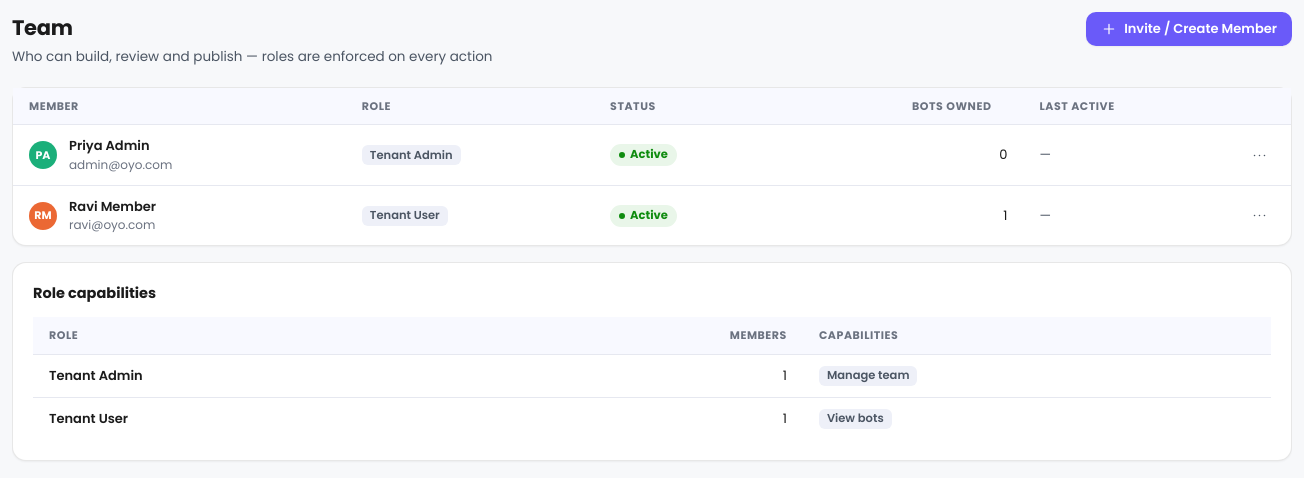
it: Team — change member password › never offers changing the signed-in admin's own password
Click the button named "More actions" in the row of "Priya Admin" at (1259, 155), box [1243,139,1275,171]
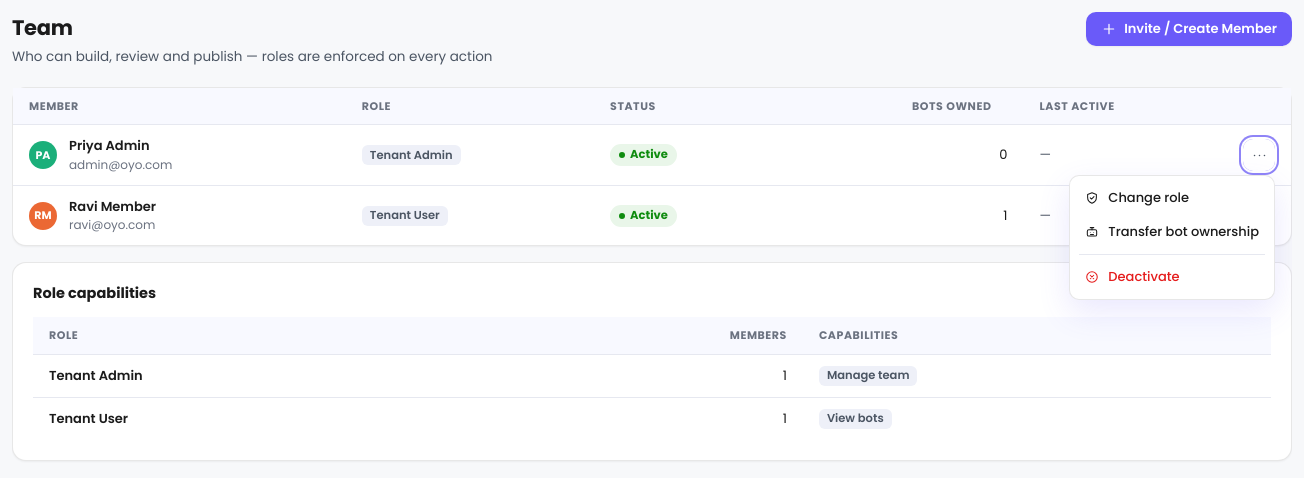
Now the menu item "Change role" is shown, box [1075,181,1269,215]
